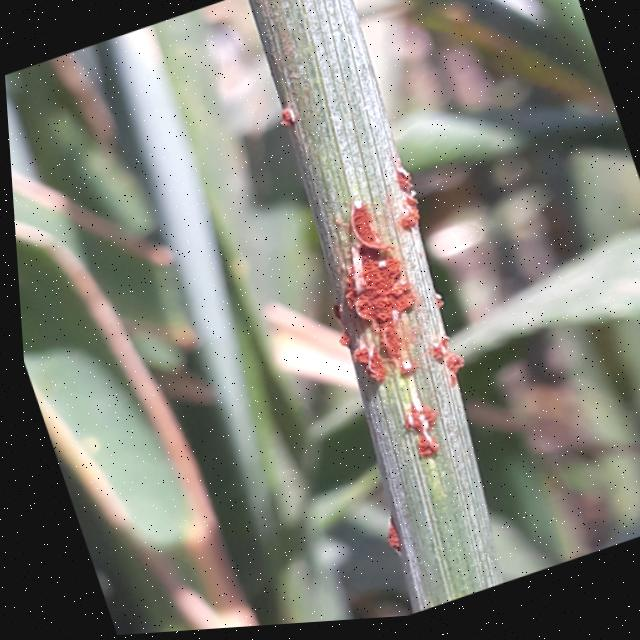black_stem_rust: (189, 0, 539, 630)
